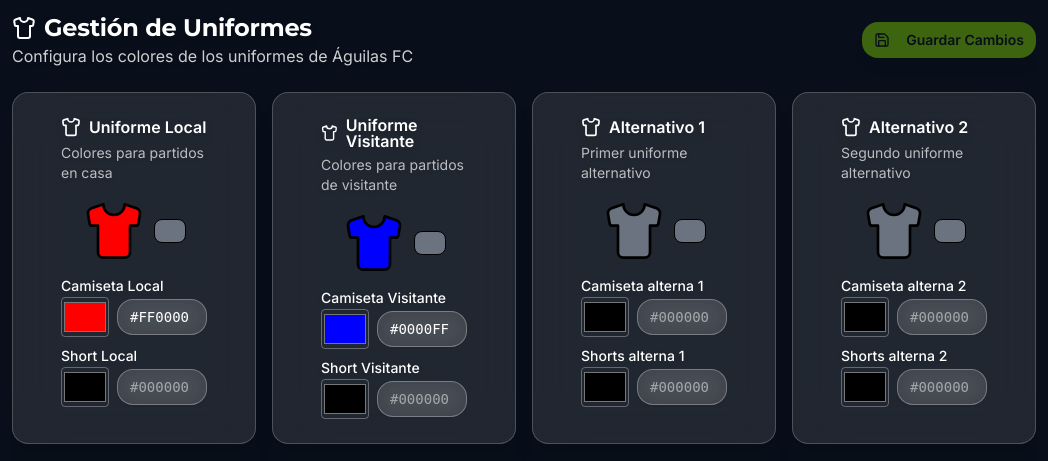
Test: TeamUniformsPage › discards pending edits on Cancelar
The width and height of the screenshot is (1048, 461).
Replace the text in the field named "Camiseta Local (hex)" with "#123456" at (162, 317), box [117,299,207,335]
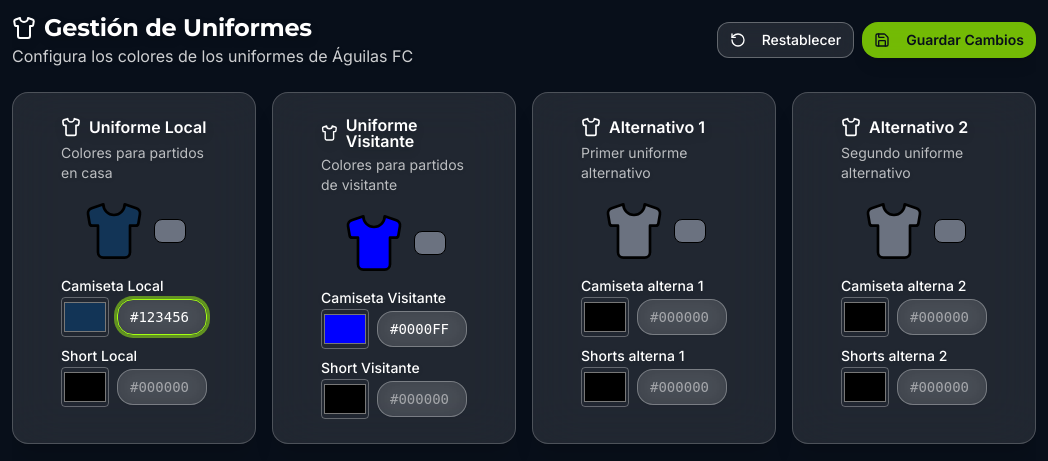
Click the button "Restablecer" at (785, 40), box [717,22,854,58]
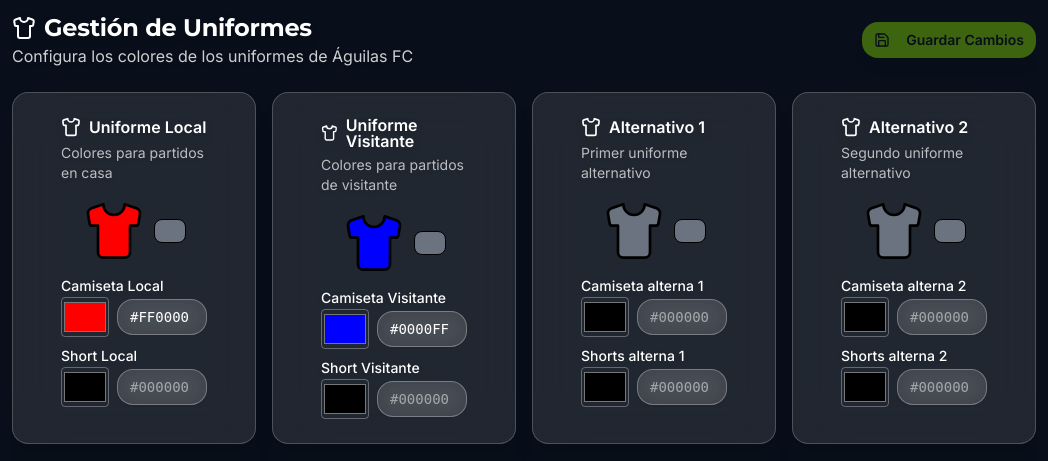
expect the field named "Camiseta Local (hex)" holds "#FF0000": met, box [117,299,207,335]
